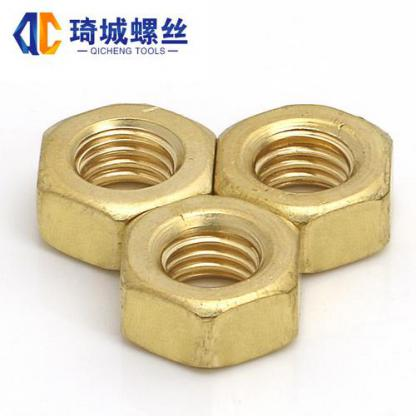FOD: (117, 192, 304, 372), (211, 102, 393, 276), (37, 101, 217, 272)
